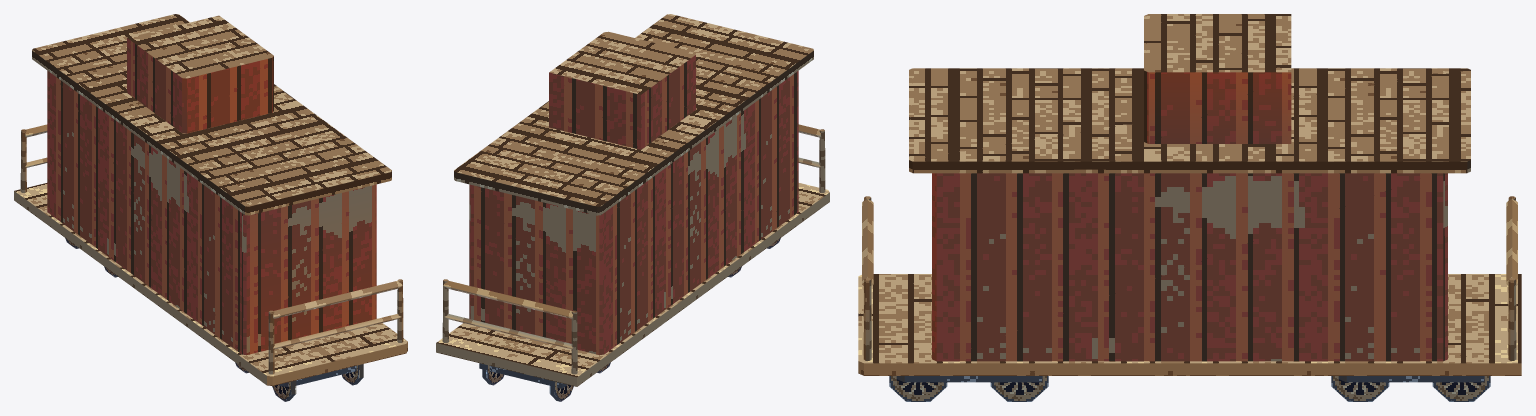
File: wrail.car__caboose.glb
The picture shows the model from 3 angles, left to right: view 1: azimuth 30°, elevation 25°; view 2: azimuth 150°, elevation 25°; view 3: azimuth 270°, elevation 25°; orthographic projection. The views are drawn at different scales.
Visible parts, largest first — view 1: kit_body, kit_roof, kit_cupola, kit_frame, kit_platforms, kit_wheels, kit_trucks; view 2: kit_body, kit_roof, kit_cupola, kit_frame, kit_platforms, kit_wheels, kit_trucks; view 3: kit_body, kit_roof, kit_frame, kit_cupola, kit_wheels, kit_platforms, kit_trucks.
Boxes of the visible parts, x1,y1,x2,y2 form: kit_body: [47, 70, 376, 354]; kit_roof: [32, 14, 391, 215]; kit_cupola: [127, 15, 273, 133]; kit_frame: [14, 183, 407, 385]; kit_platforms: [20, 124, 403, 374]; kit_wheels: [65, 238, 363, 401]; kit_trucks: [279, 365, 356, 386]; kit_body: [469, 71, 798, 354]; kit_roof: [454, 14, 813, 215]; kit_cupola: [549, 31, 695, 149]; kit_frame: [436, 183, 829, 386]; kit_platforms: [442, 124, 825, 374]; kit_wheels: [482, 238, 780, 401]; kit_trucks: [479, 363, 567, 388]; kit_body: [932, 173, 1447, 361]; kit_roof: [909, 68, 1470, 173]; kit_frame: [858, 274, 1521, 375]; kit_cupola: [1144, 14, 1291, 143]; kit_wheels: [889, 376, 1490, 401]; kit_platforms: [862, 196, 1517, 360]; kit_trucks: [896, 376, 1484, 382].
Size of the model in its own units: 2.4 by 4.02 by 7.2.
9 materials, 9 textured.
